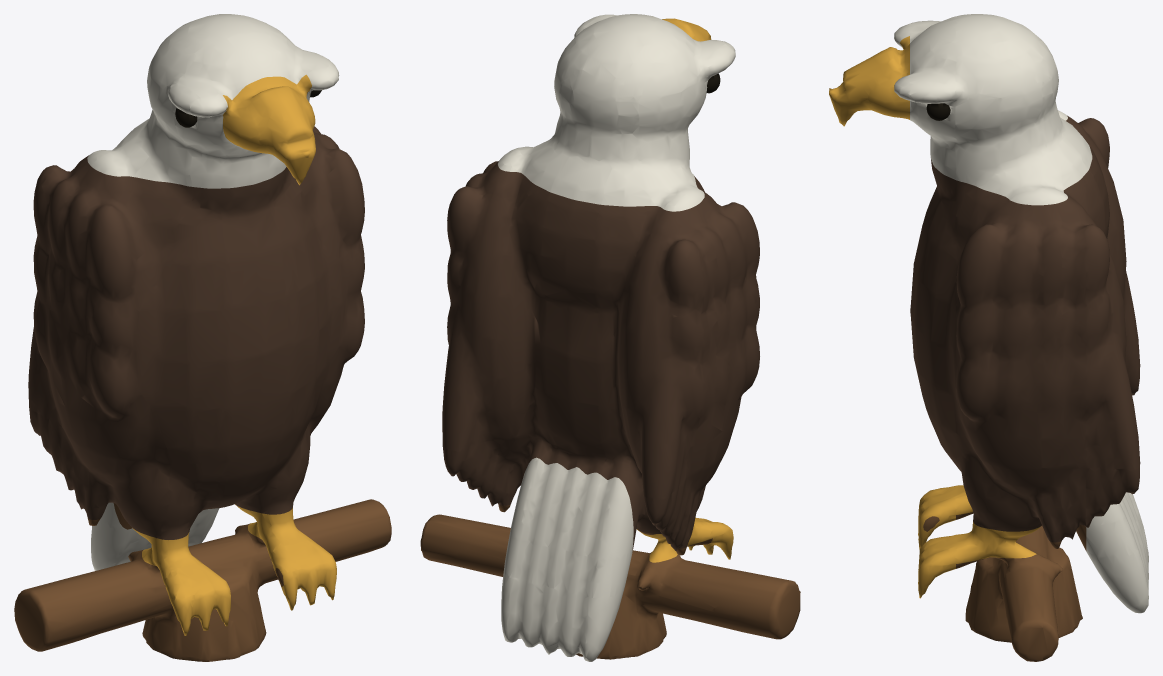
Rendered from NEW_RECOVERY_132_LOD0.glb.
3 renders of one model, left to right at view 1: azimuth 30°, elevation 25°; view 2: azimuth 150°, elevation 25°; view 3: azimuth 270°, elevation 25°, orthographic. The views are drawn at different scales.
Parts seen in each view (by area): view 1: Eagle_static_sculpt; view 2: Eagle_static_sculpt; view 3: Eagle_static_sculpt.
Part boxes in pixels (x1,y1,x2,y2): Eagle_static_sculpt: (14,14,391,661); Eagle_static_sculpt: (420,14,800,661); Eagle_static_sculpt: (829,14,1148,661).
Bounding box in the file's own units: 1.67 × 2.74 × 1.32.
